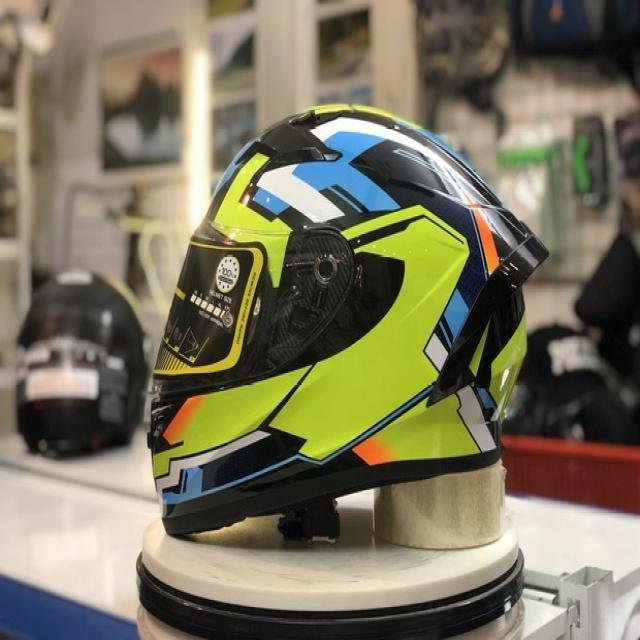Helmet: (131, 84, 554, 556)
